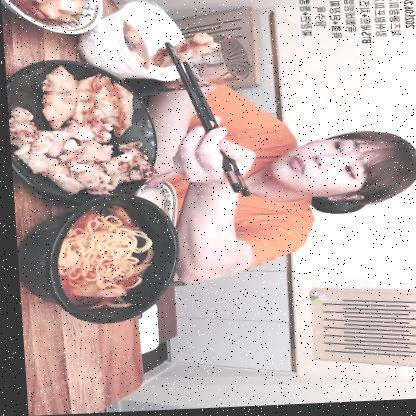streamer: (144, 72, 416, 287)
